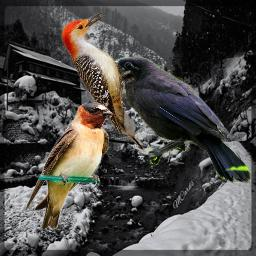Crow: (101, 56, 252, 183)
Swallow: (23, 102, 113, 230)
Woodpecker: (61, 12, 146, 154)
